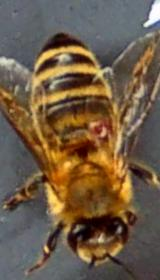varroa_mite: (79, 107, 121, 151)
